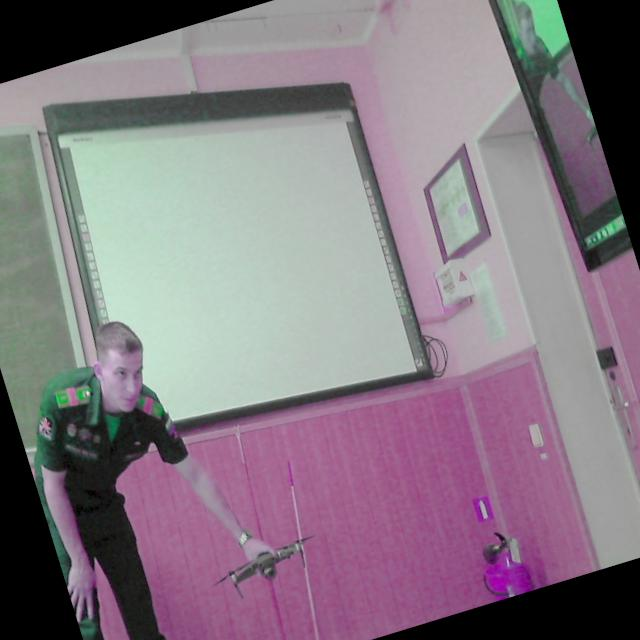drone: (198, 516, 326, 610)
